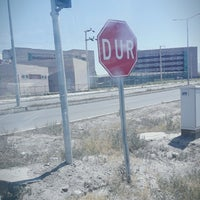dur: (96, 18, 141, 77)
